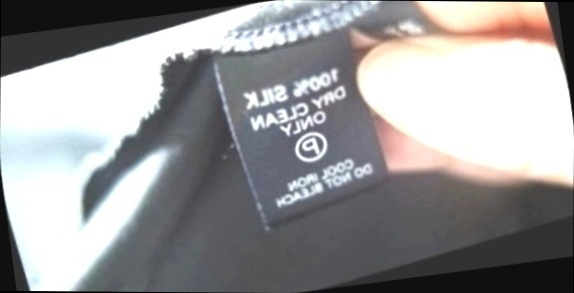dry_clean_any_solvent_except_trichloroethylene: (282, 120, 338, 174)
